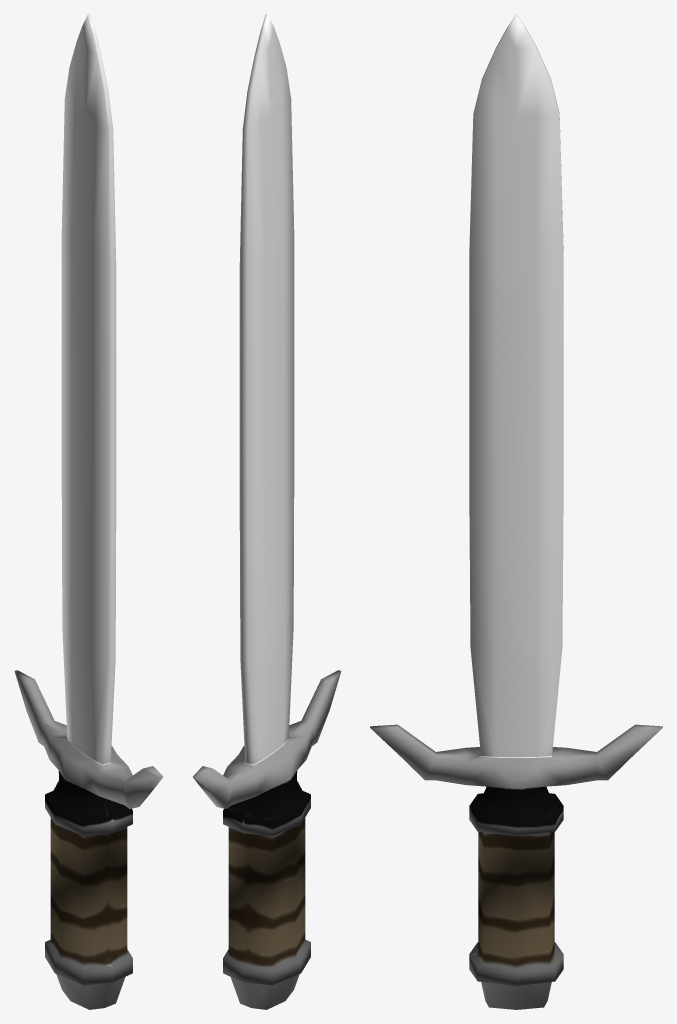
File: Short Sword.fbx
3 renders of one model, left to right at view 1: azimuth 30°, elevation 25°; view 2: azimuth 150°, elevation 25°; view 3: azimuth 270°, elevation 25°, orthographic.
Parts seen in each view (by area): view 1: Short Sword Mesh; view 2: Short Sword Mesh; view 3: Short Sword Mesh.
Part boxes in pixels (x1=…): Short Sword Mesh: x1=14, y1=14, x2=162, y2=1009; Short Sword Mesh: x1=193, y1=14, x2=341, y2=1009; Short Sword Mesh: x1=370, y1=14, x2=662, y2=1009.
Size of the model in its own units: 0.0879 by 1.21 by 0.3262.
1 material, 1 textured.
